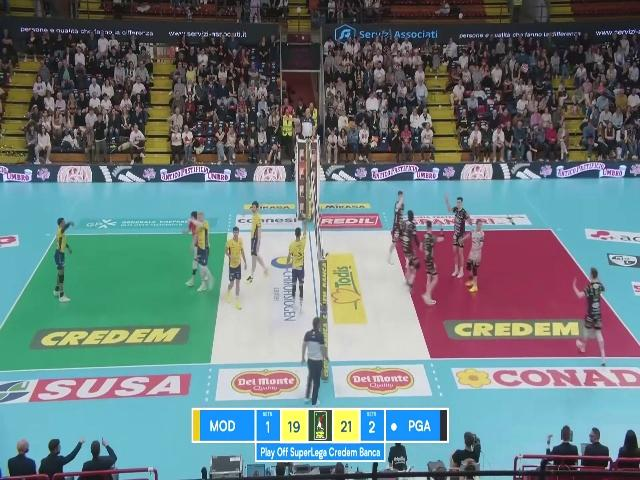volleyball court: (0, 227, 636, 371)
